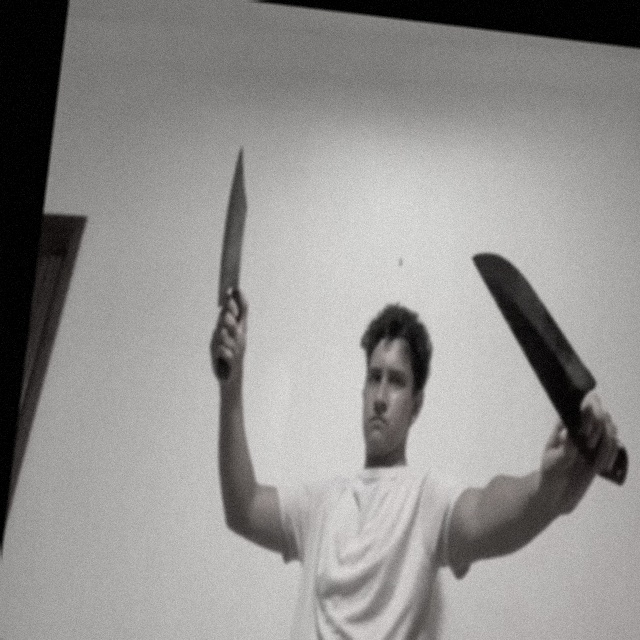Sharp-Object: (457, 247, 611, 393), (214, 140, 257, 305)
